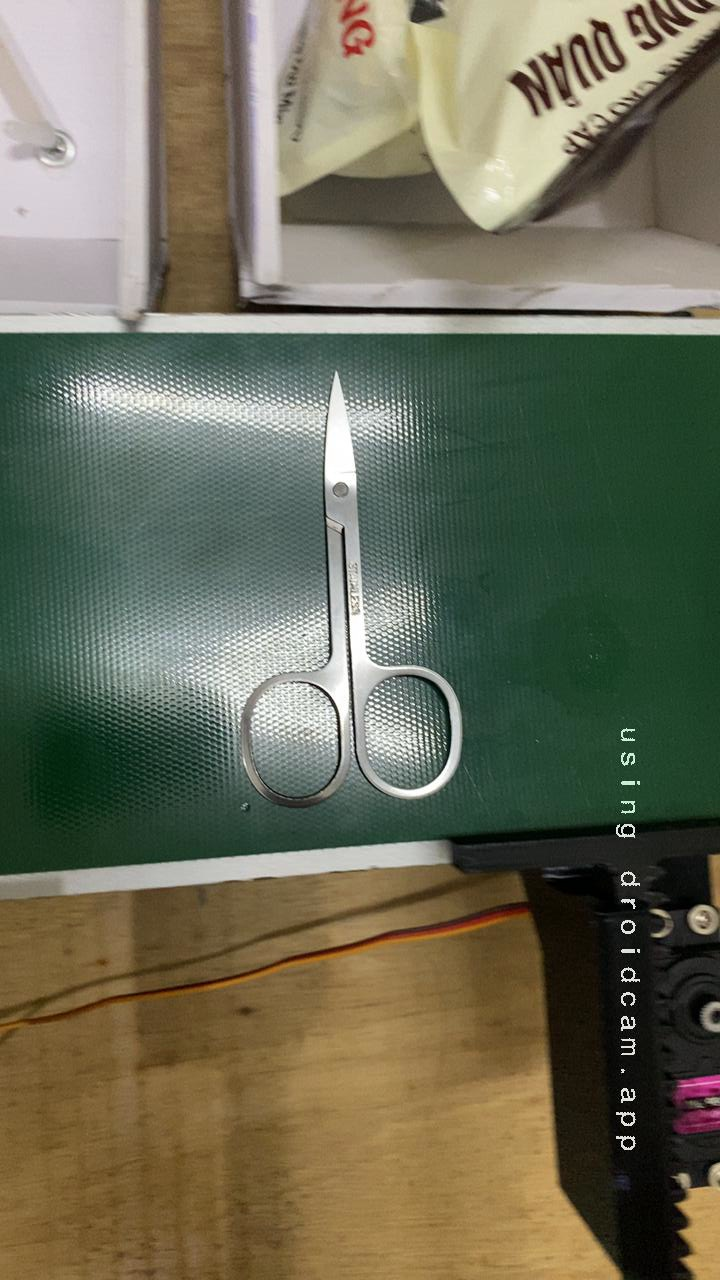scissor: (180, 370, 488, 820)
